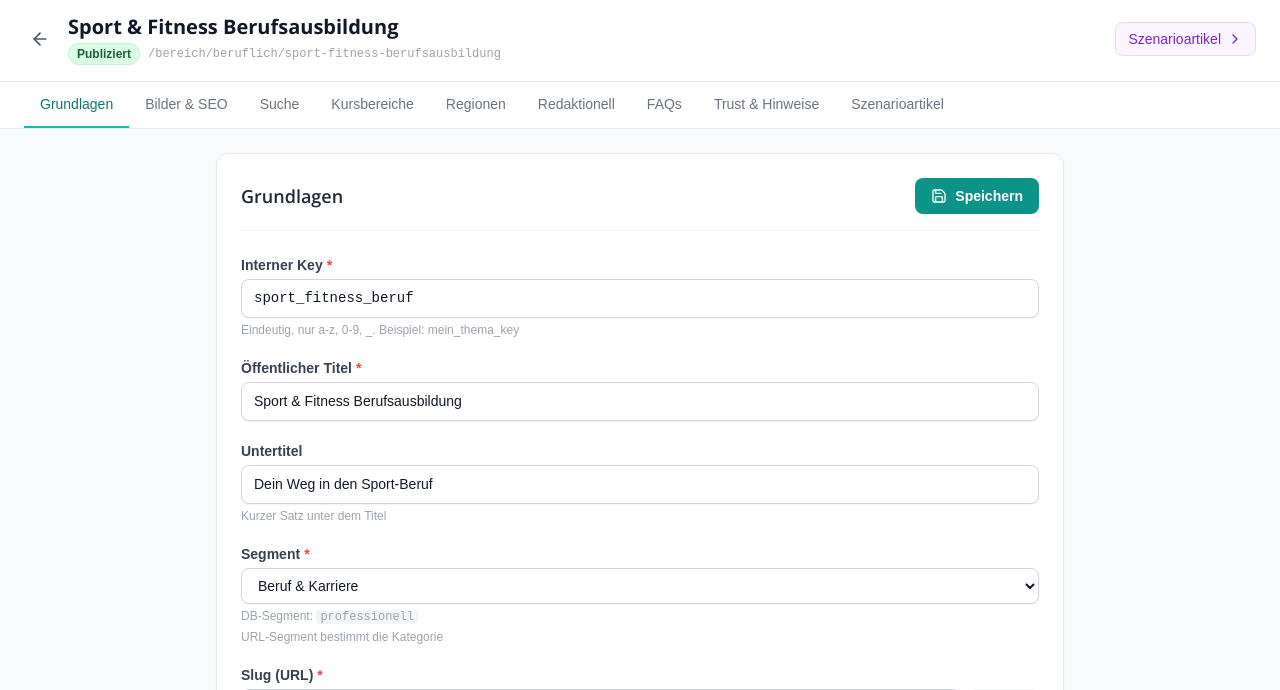
Test: Phase 8.6 — Admin-Editor: predefined_searches › predefined_searches null → leeres Array (kein Fehler)
This screenshot has width=1280, height=690.
Click the button "Suche": (280, 105) [244,82,315,128]
(page scrolled)
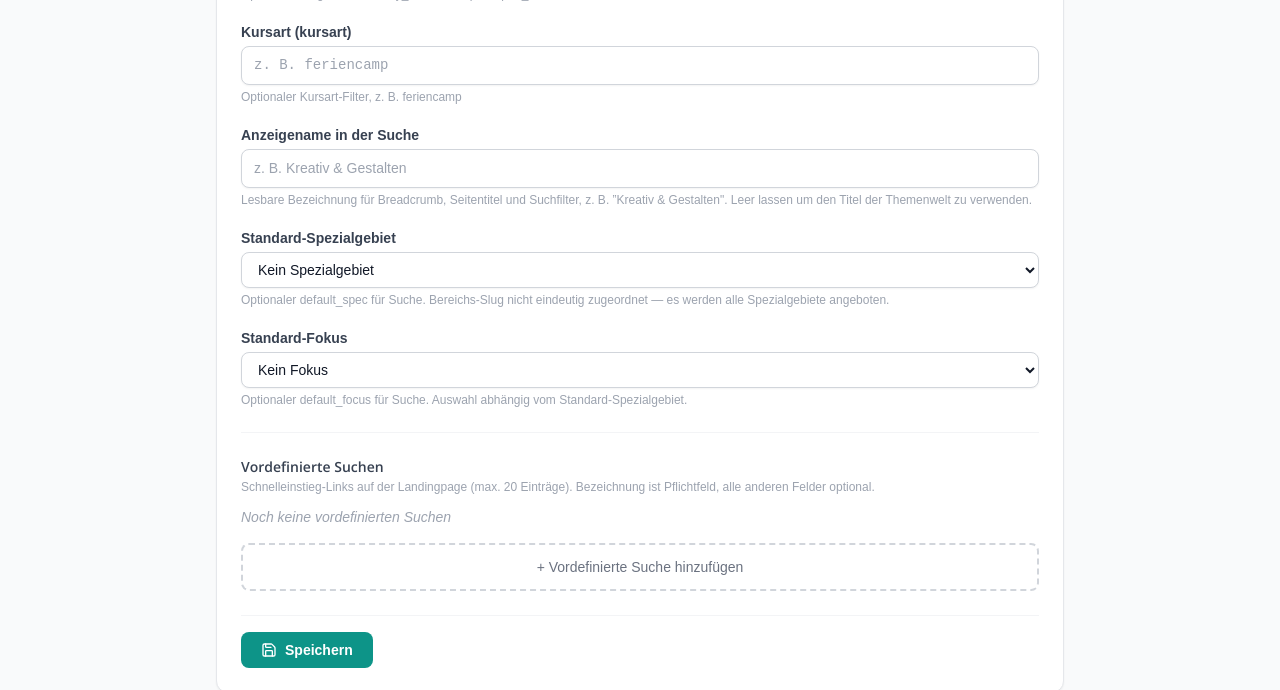
Result: the text "Noch keine vordefinierten Suchen" is shown at [241,509,451,525]
